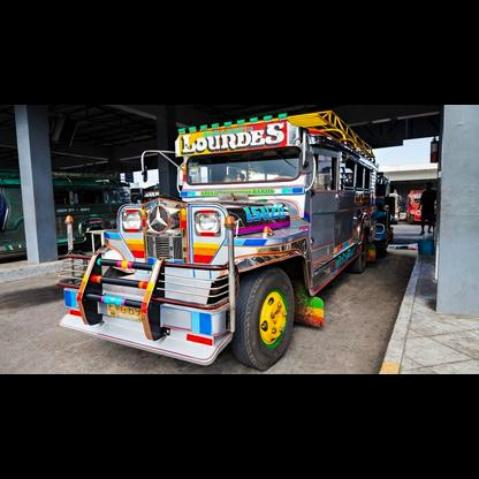jeepney: (58, 101, 389, 368)
